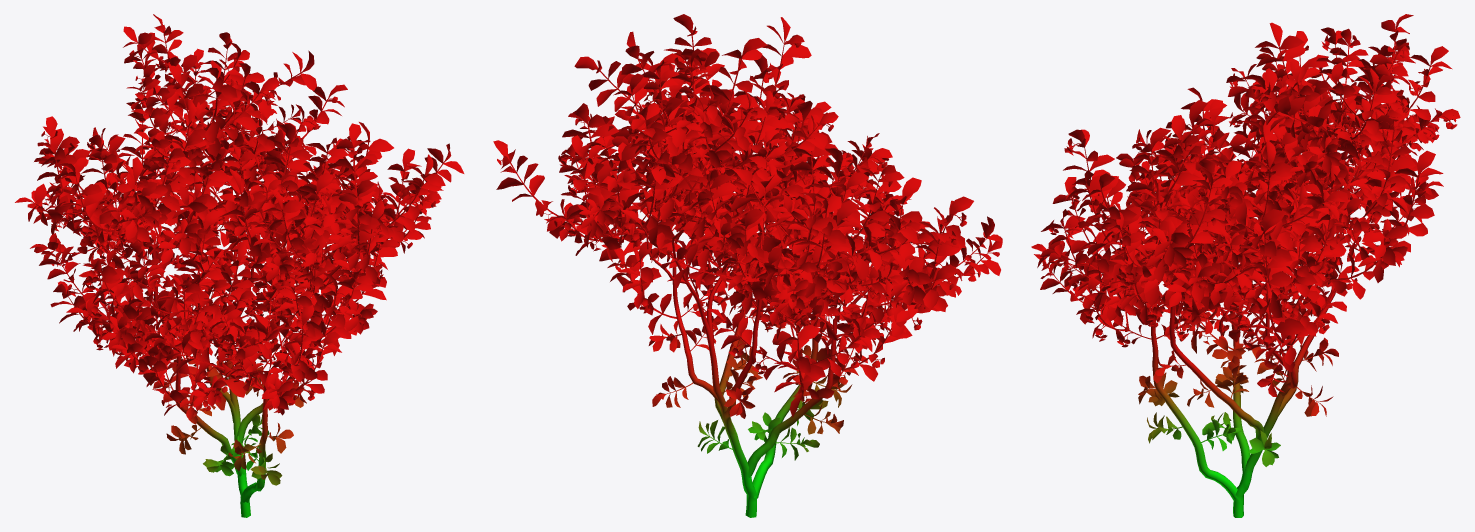
The model's file is European Spindle_LOD2_Var13.fbx.
3 views of the same model, side by side, from view 1: azimuth 30°, elevation 25°; view 2: azimuth 150°, elevation 25°; view 3: azimuth 270°, elevation 25° (orthographic). The views are drawn at different scales.
Parts seen in each view (by area): view 1: _ng98_Var13_LOD2; view 2: _ng98_Var13_LOD2; view 3: _ng98_Var13_LOD2.
Part boxes in pixels (x1,y1,x2,y2): _ng98_Var13_LOD2: (15, 14, 464, 517); _ng98_Var13_LOD2: (493, 14, 1002, 517); _ng98_Var13_LOD2: (1031, 14, 1460, 517).
Size of the model in its own units: 226 by 258 by 208.
